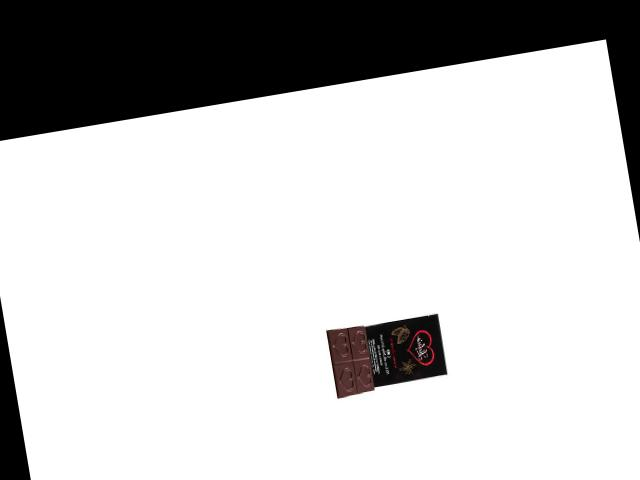chocolate: (321, 309, 450, 404)
